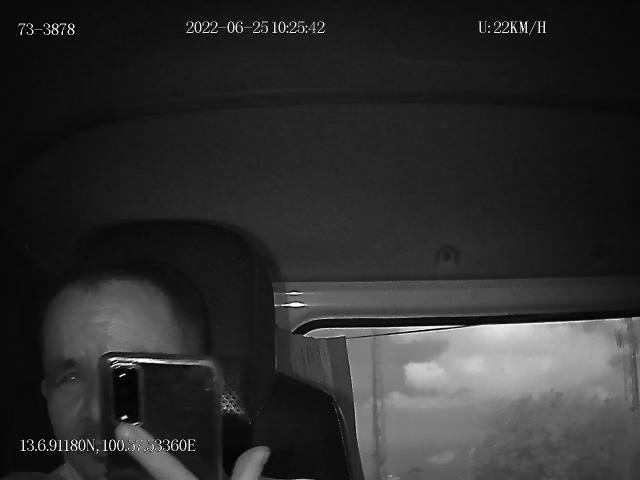PhoneUse: (99, 350, 227, 480)
SafeDriving: (48, 359, 91, 398)
